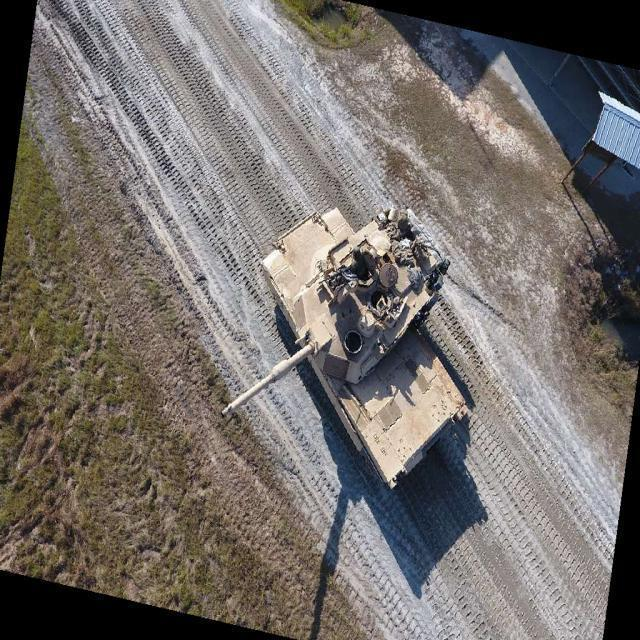MIL_MBT: (220, 200, 472, 494)
